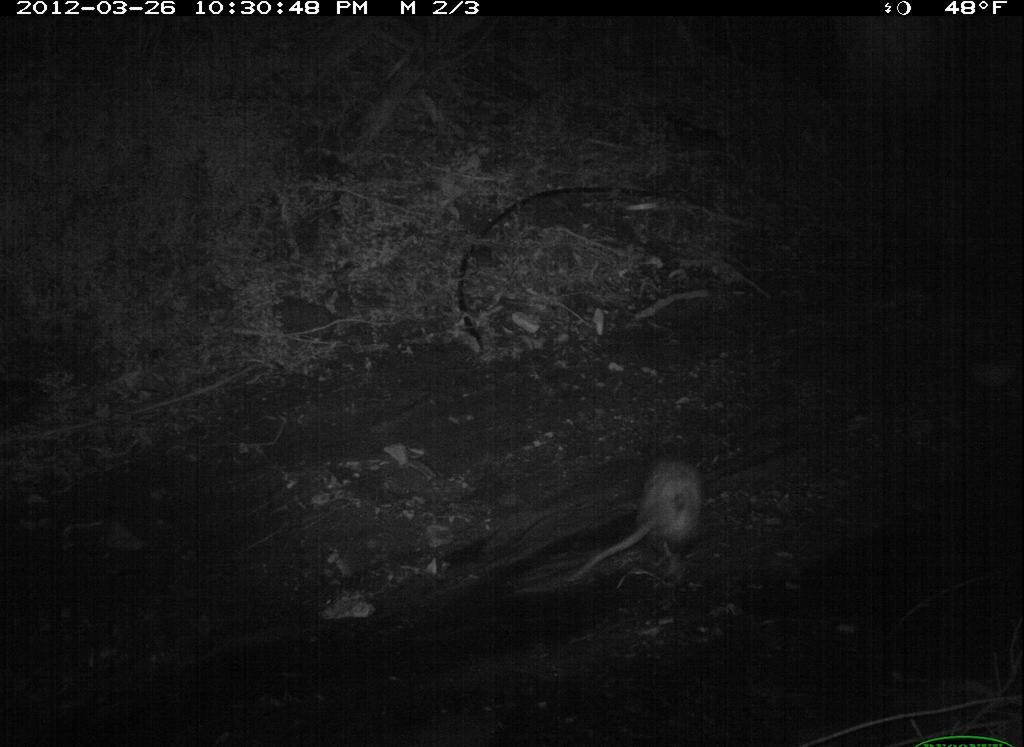opossum: (566, 433, 710, 596)
